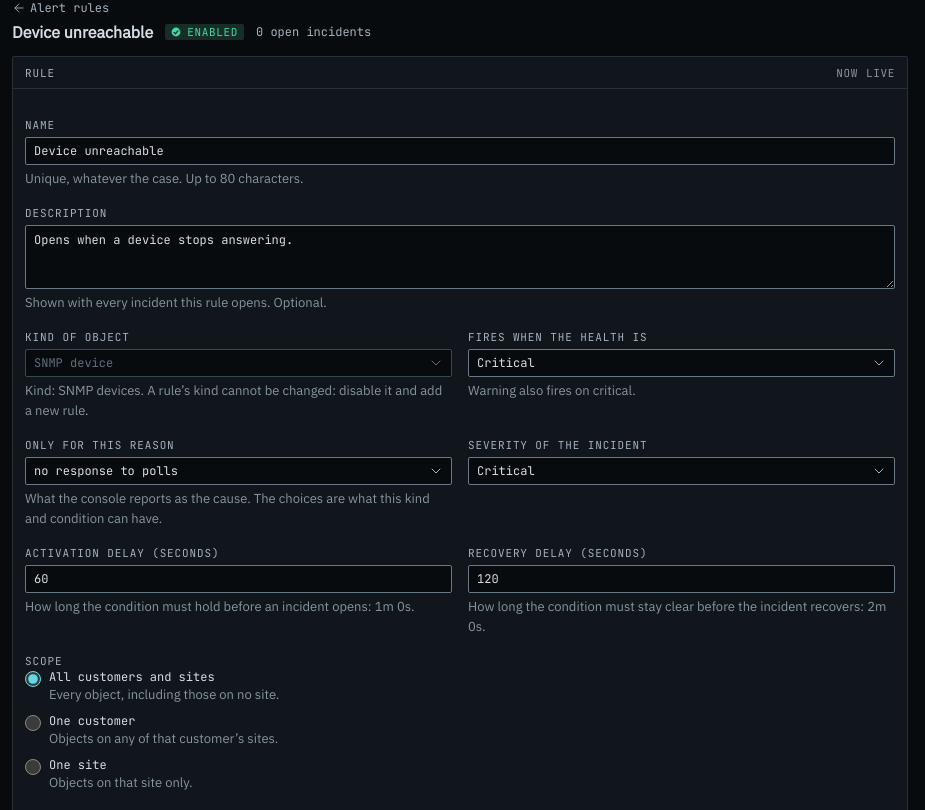
Test: a rule that exists › offers Save only once something changed
The image size is (925, 810).
Type " 2" into the field labelled "Name" at (460, 151), box [25,137,895,165]
(page scrolled)
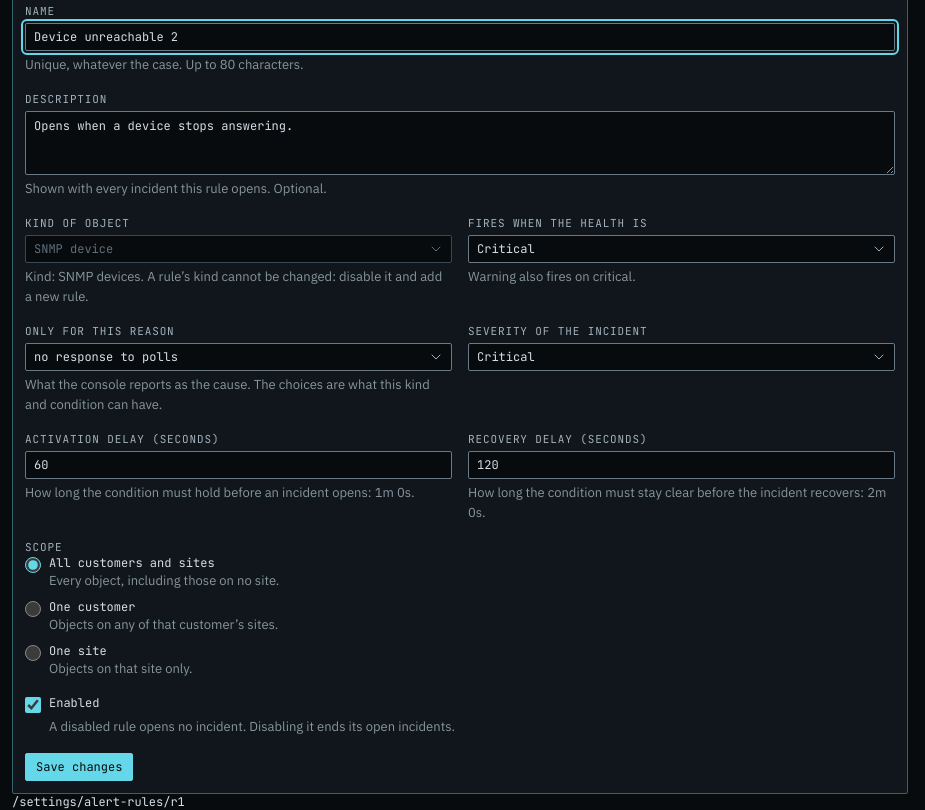
Check: the button "Save changes" is enabled, box [25,753,133,781]
